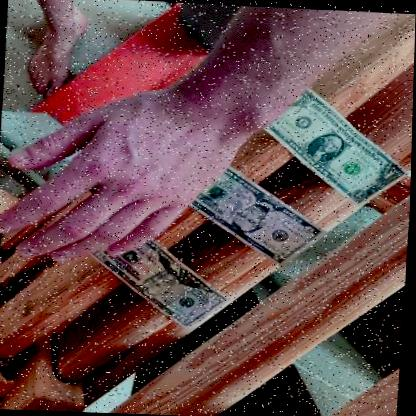fifty-front: (87, 220, 230, 327)
five-front: (186, 163, 328, 266)
one-back: (261, 84, 411, 207)
